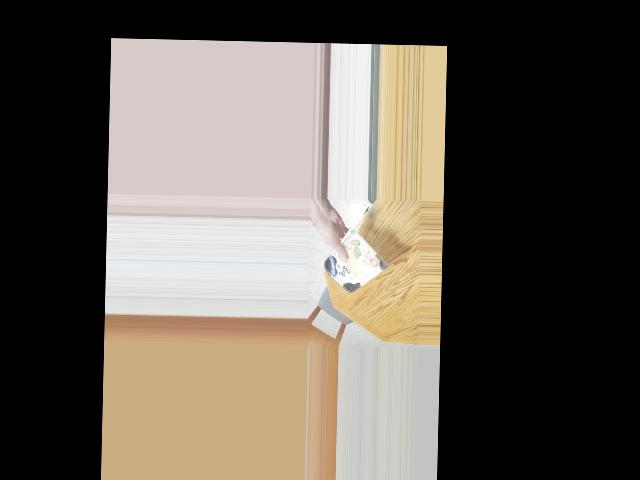cheese: (323, 238, 379, 287)
